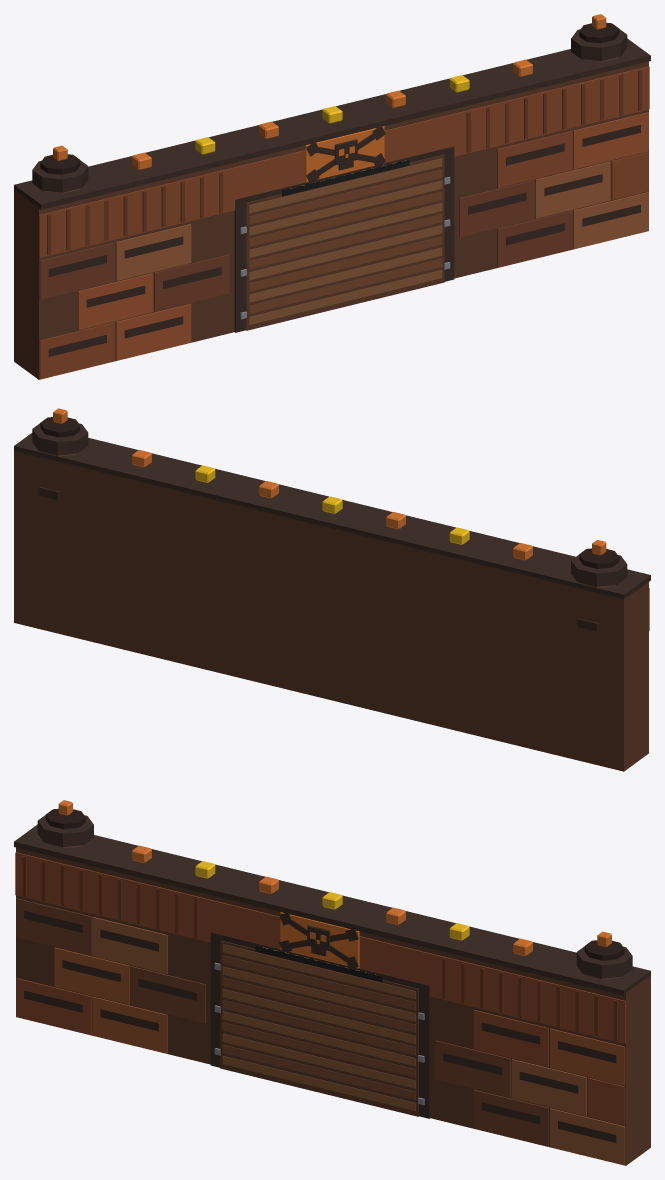
The model's file is miniarena_wall_back.glb.
3 renders of one model, top to bottom at view 1: azimuth 30°, elevation 25°; view 2: azimuth 150°, elevation 25°; view 3: azimuth 330°, elevation 25°, orthographic.
Visible parts, largest first — view 1: miniarena_wall_back; view 2: miniarena_wall_back; view 3: miniarena_wall_back.
Boxes of the visible parts, bbox=[...] form: miniarena_wall_back: bbox=[14, 14, 650, 379]; miniarena_wall_back: bbox=[14, 408, 650, 771]; miniarena_wall_back: bbox=[14, 800, 650, 1165].
Bounding box in the file's own units: 24 × 8 × 2.
1 material, 1 textured.
